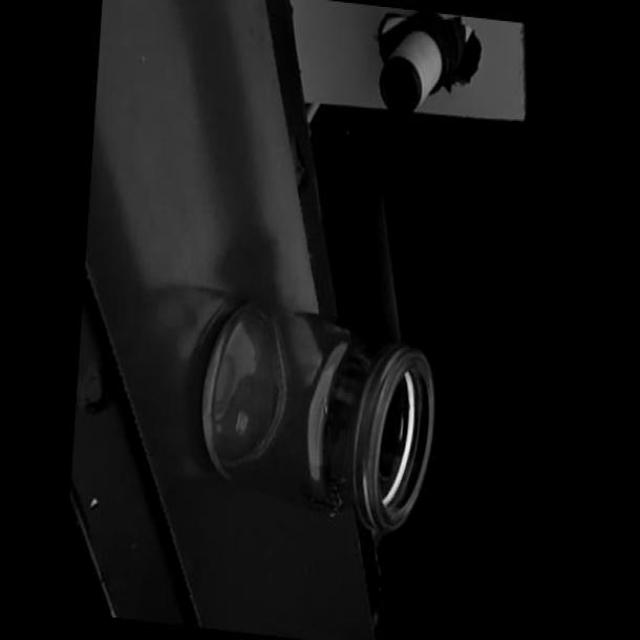defect: (318, 392, 334, 425)
glass: (190, 290, 442, 537)
